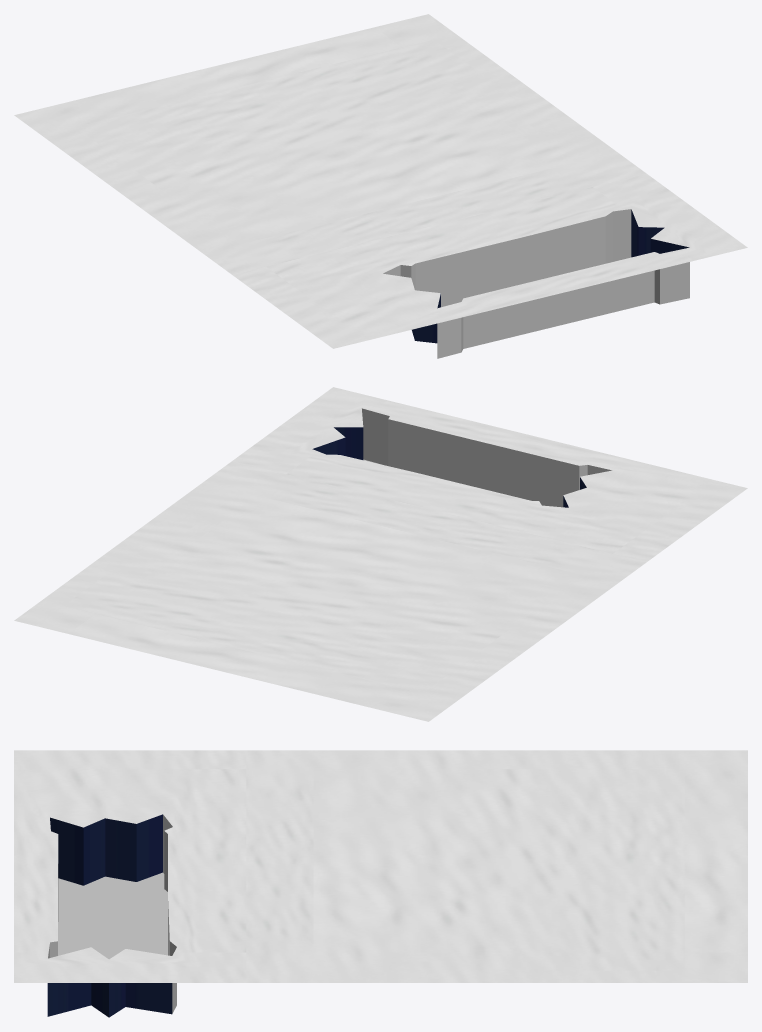
File: trapM01.FBX
The picture shows the model from 3 angles, top to bottom: view 1: azimuth 30°, elevation 25°; view 2: azimuth 150°, elevation 25°; view 3: azimuth 270°, elevation 25°; orthographic projection. The views are drawn at different scales.
Visible parts, largest first — view 1: Object050; view 2: Object050; view 3: Object050.
Part boxes in pixels (x1=…): Object050: x1=14, y1=14, x2=747, y2=358; Object050: x1=14, y1=387, x2=747, y2=721; Object050: x1=14, y1=750, x2=747, y2=1017.
Bounding box in the file's own units: 600 × 70 × 800.
